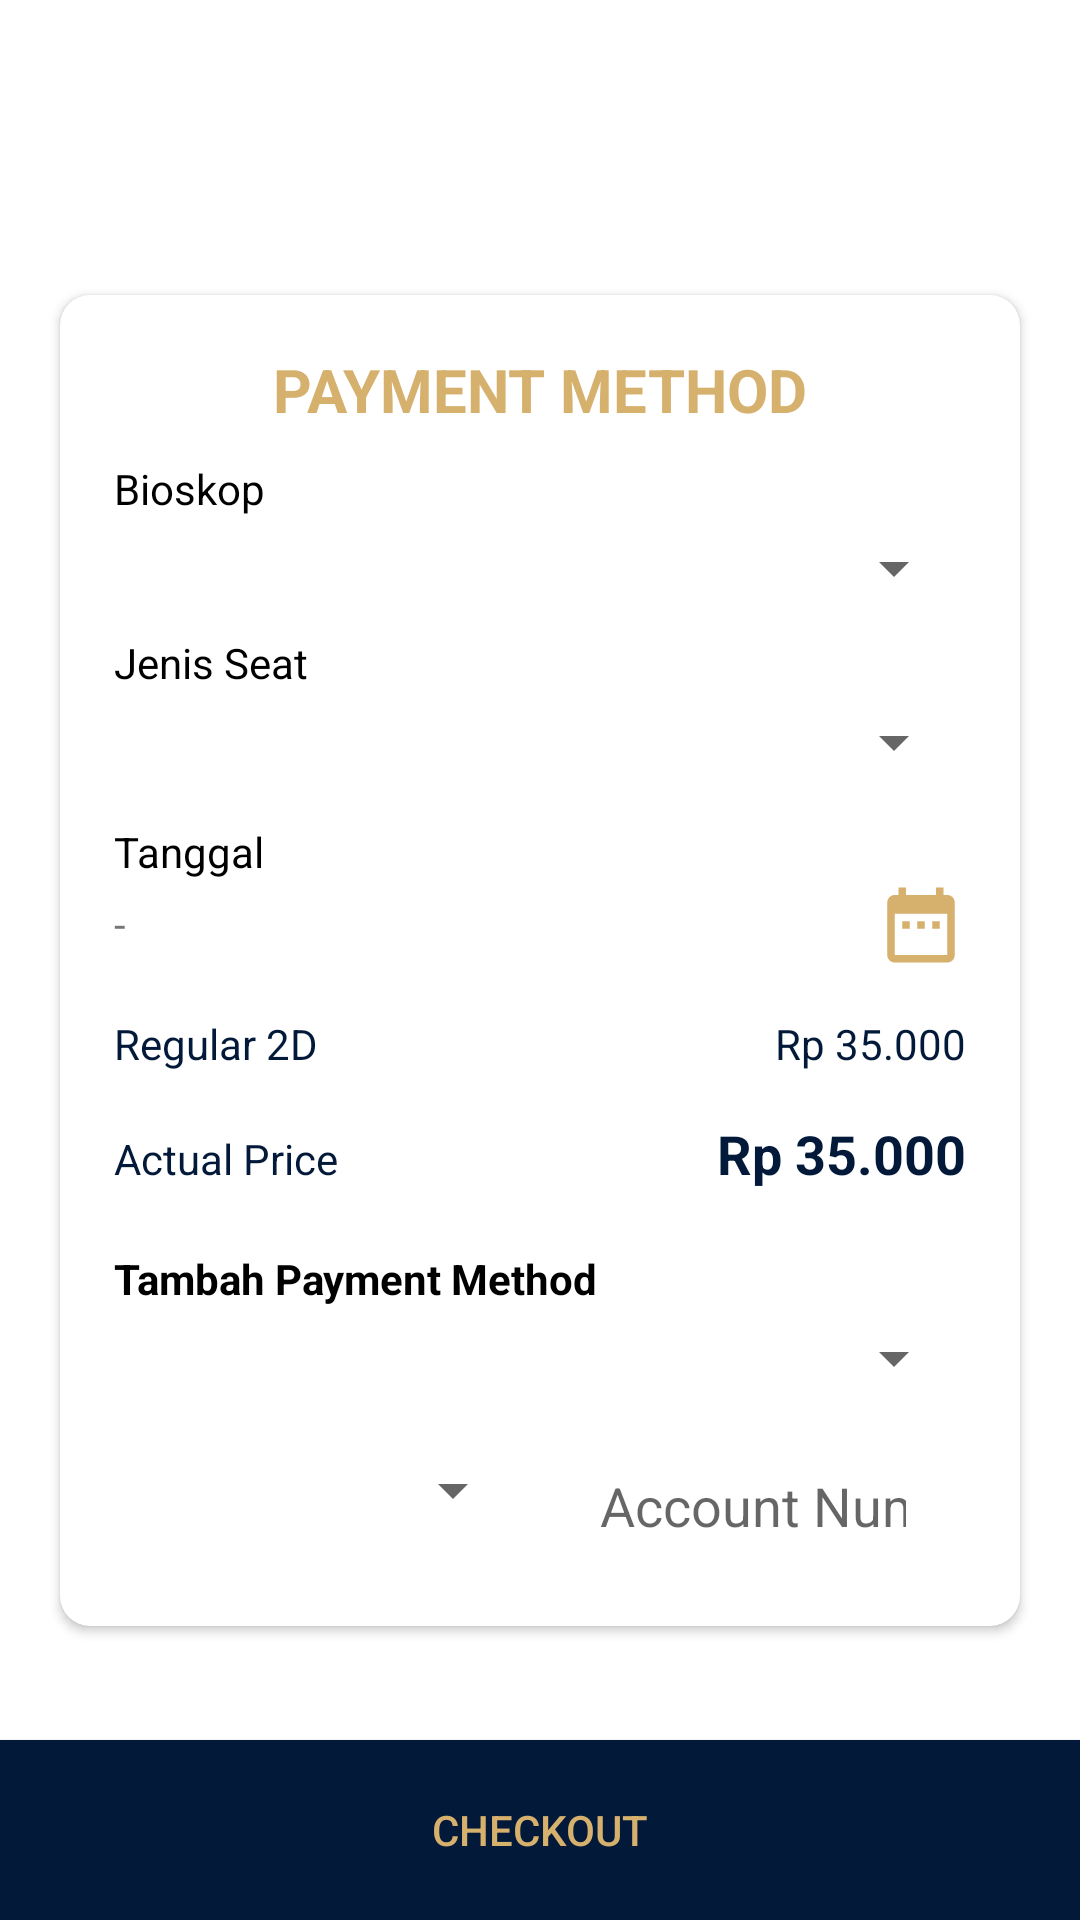

Where icons sit on this 1080w x 1920h app screen, as (x1, y1, x2, y2):
date range: (887, 887, 955, 963)
